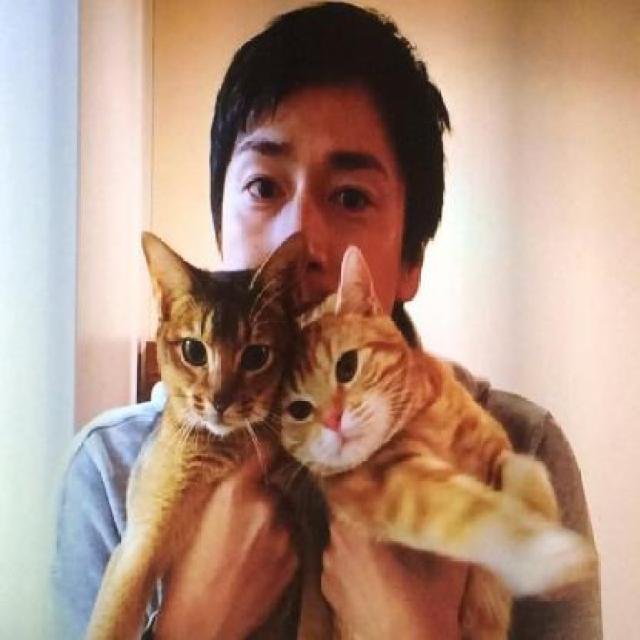cat: (290, 249, 598, 640), (94, 219, 308, 639)
